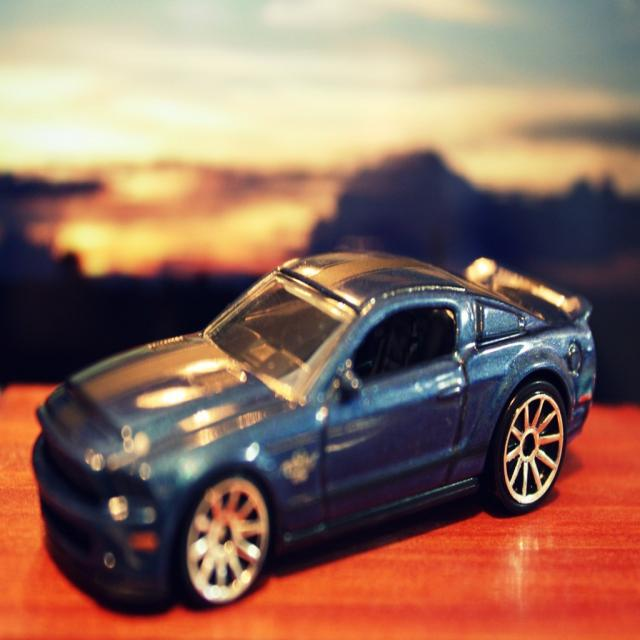other: (29, 252, 595, 616)
